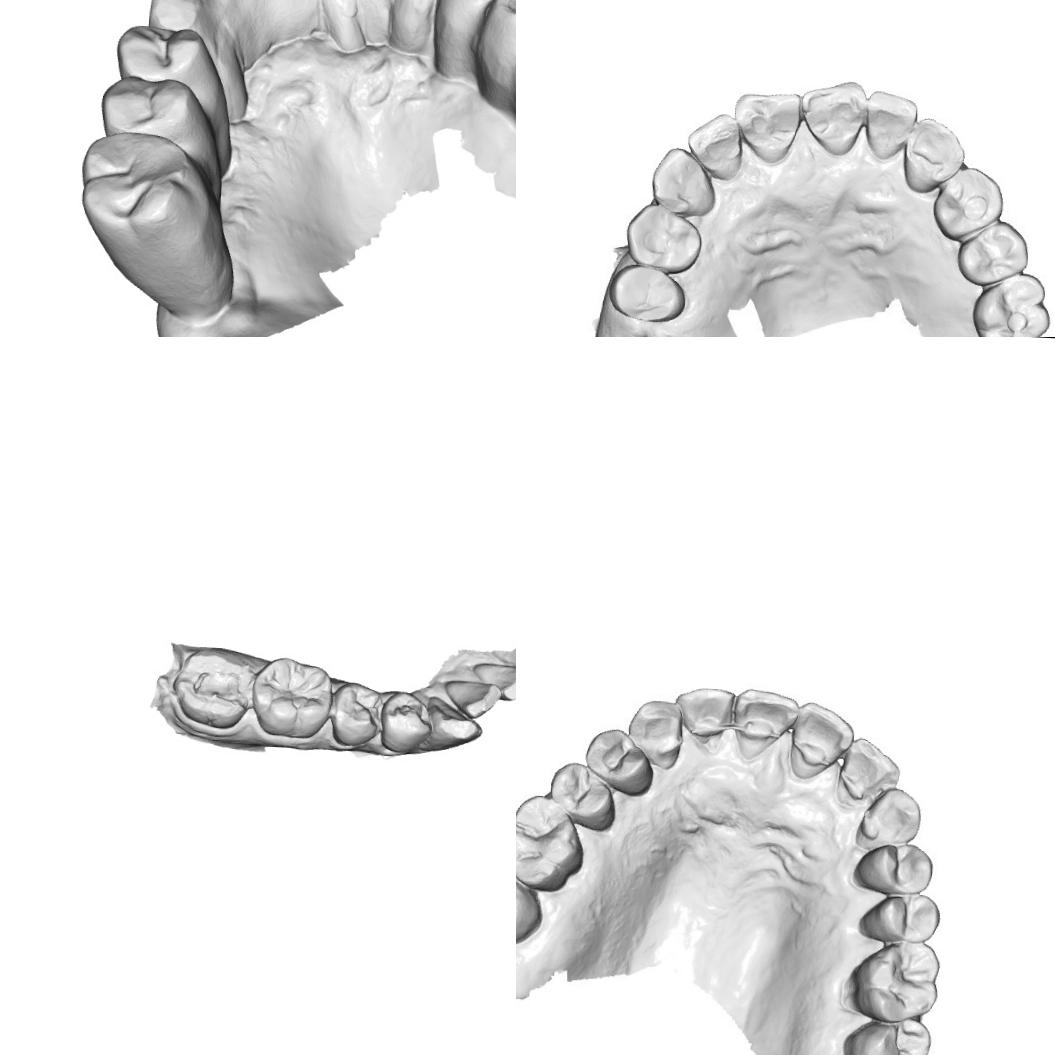canine: (646, 144, 720, 219), (415, 688, 487, 754), (903, 118, 964, 195), (854, 789, 920, 853), (630, 700, 684, 768), (145, 0, 208, 37)
incisor: (730, 684, 798, 757), (790, 701, 852, 777), (735, 90, 800, 158), (838, 736, 902, 805), (801, 78, 862, 150), (863, 88, 913, 157), (674, 686, 736, 741), (688, 112, 741, 174), (442, 676, 504, 722), (469, 659, 516, 702)
molar: (72, 126, 230, 284), (168, 643, 255, 732), (853, 943, 942, 1029), (249, 654, 336, 741), (516, 794, 588, 895), (969, 269, 1055, 337), (844, 1011, 931, 1055), (516, 862, 535, 940)
premolar: (97, 72, 207, 146), (112, 23, 210, 88), (614, 205, 709, 271), (952, 216, 1033, 290), (930, 162, 1006, 240), (607, 260, 691, 328), (546, 756, 616, 826), (585, 724, 649, 793), (856, 843, 936, 898), (376, 688, 435, 757), (328, 679, 384, 749), (871, 890, 937, 945), (475, 0, 516, 68)
